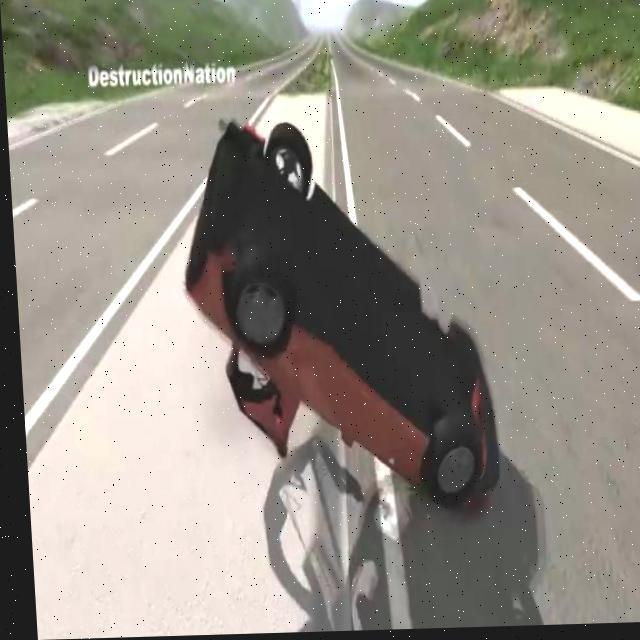single accident: (172, 107, 520, 551)
